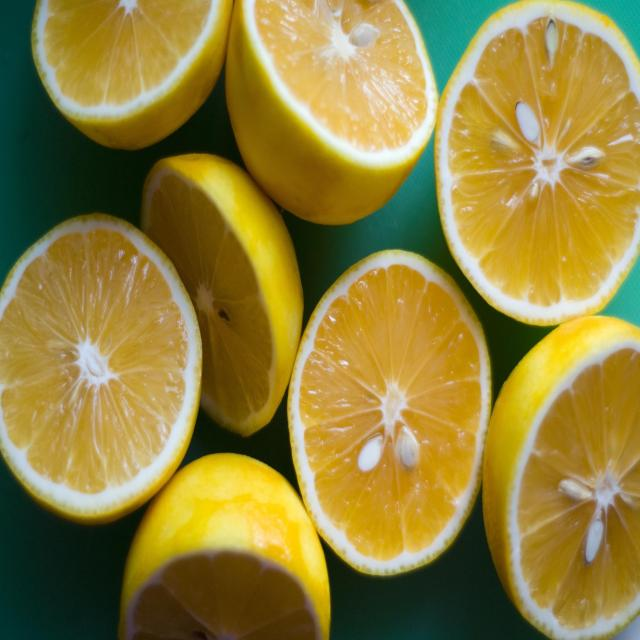lemon: (437, 0, 640, 324), (2, 188, 194, 520), (306, 251, 472, 569), (479, 315, 640, 635), (224, 0, 440, 222), (22, 0, 233, 153)
